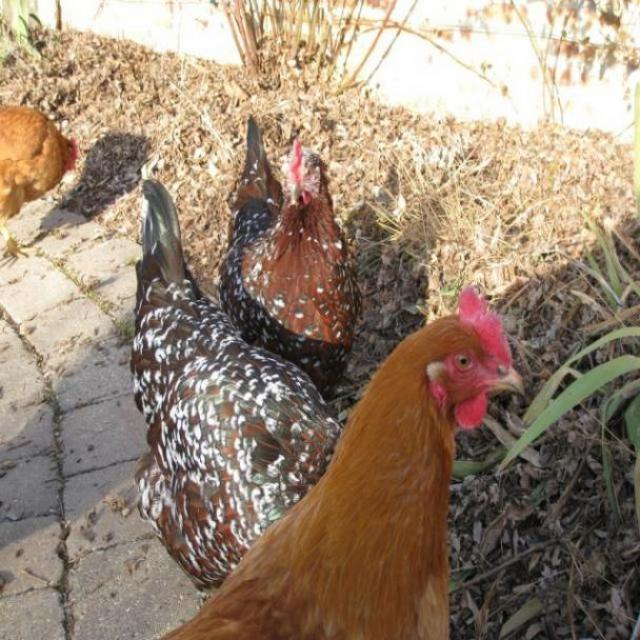Chicken: (160, 285, 520, 639), (134, 179, 346, 598), (219, 115, 362, 406), (0, 104, 79, 261)
